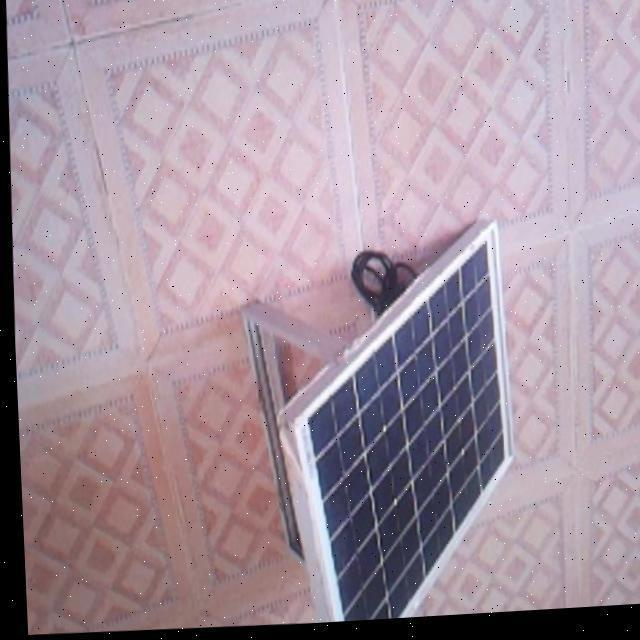Normal Solar Panel: (294, 248, 508, 626)
